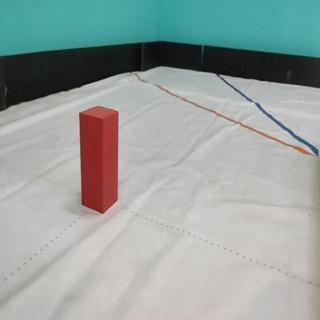redbox: (77, 104, 119, 214)
